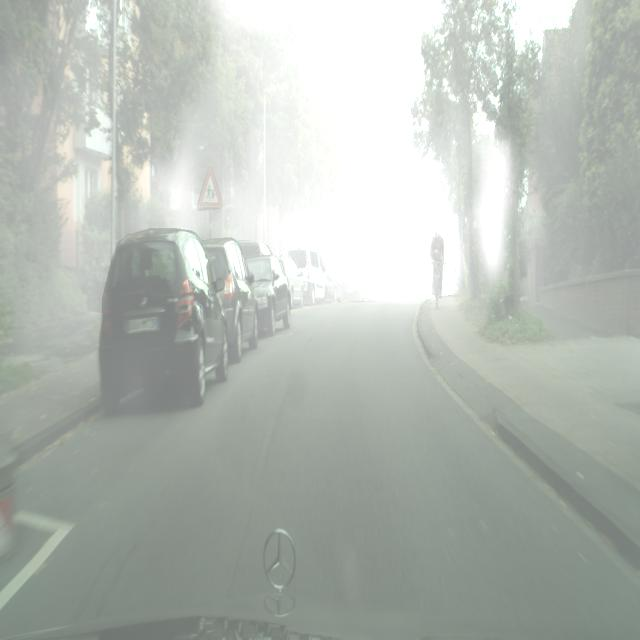person: (430, 224, 445, 310)
train: (393, 265, 413, 298)
truck: (98, 229, 229, 414), (204, 239, 259, 361), (238, 238, 291, 335), (285, 246, 328, 305), (280, 256, 304, 309), (341, 268, 365, 302), (324, 262, 342, 303), (362, 274, 377, 301), (385, 282, 403, 299)
